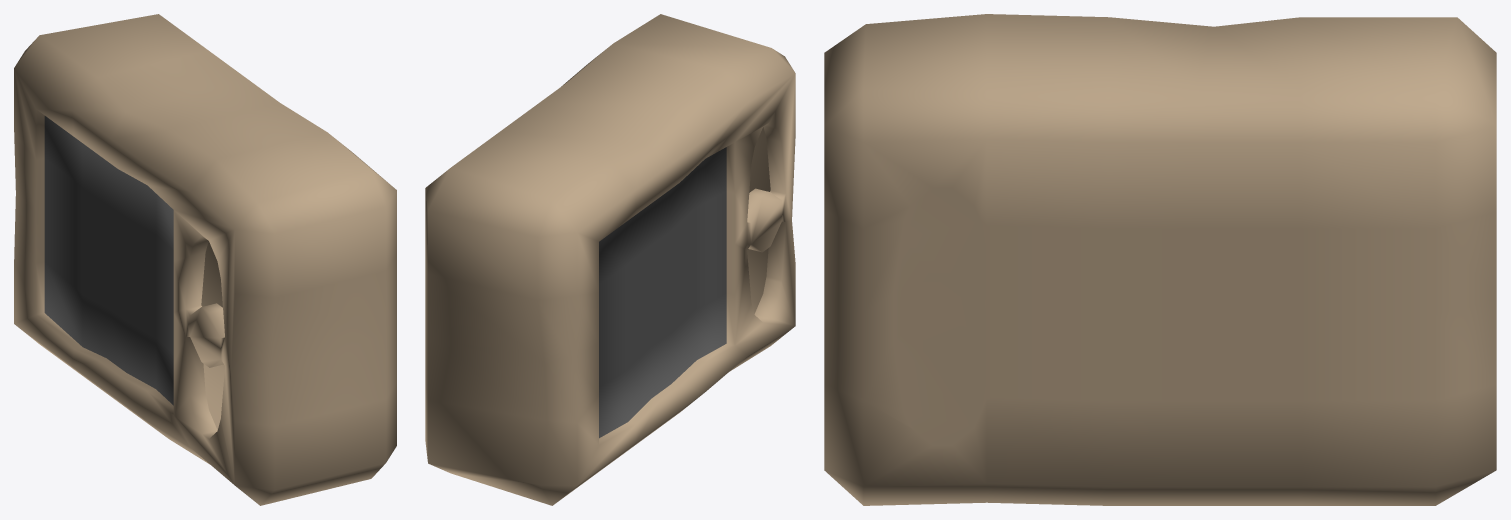
File: thermostat.glb
3 renders of one model, left to right at view 1: azimuth 30°, elevation 25°; view 2: azimuth 150°, elevation 25°; view 3: azimuth 270°, elevation 25°, orthographic. The views are drawn at different scales.
Visible parts, largest first — view 1: thermostat.002; view 2: thermostat.002; view 3: thermostat.002.
Boxes of the visible parts, <box> form: thermostat.002: <box>14,14,396,505</box>; thermostat.002: <box>425,14,795,505</box>; thermostat.002: <box>824,14,1496,505</box>.
Bounding box in the file's own units: 0.058 × 0.1057 × 0.1533.
